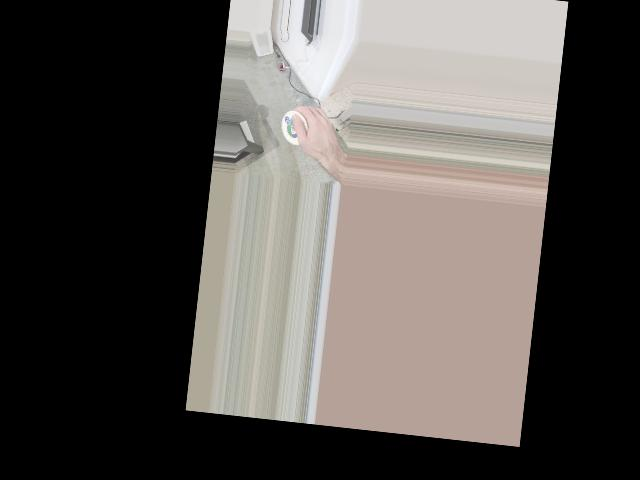cotage: (279, 109, 312, 146)
